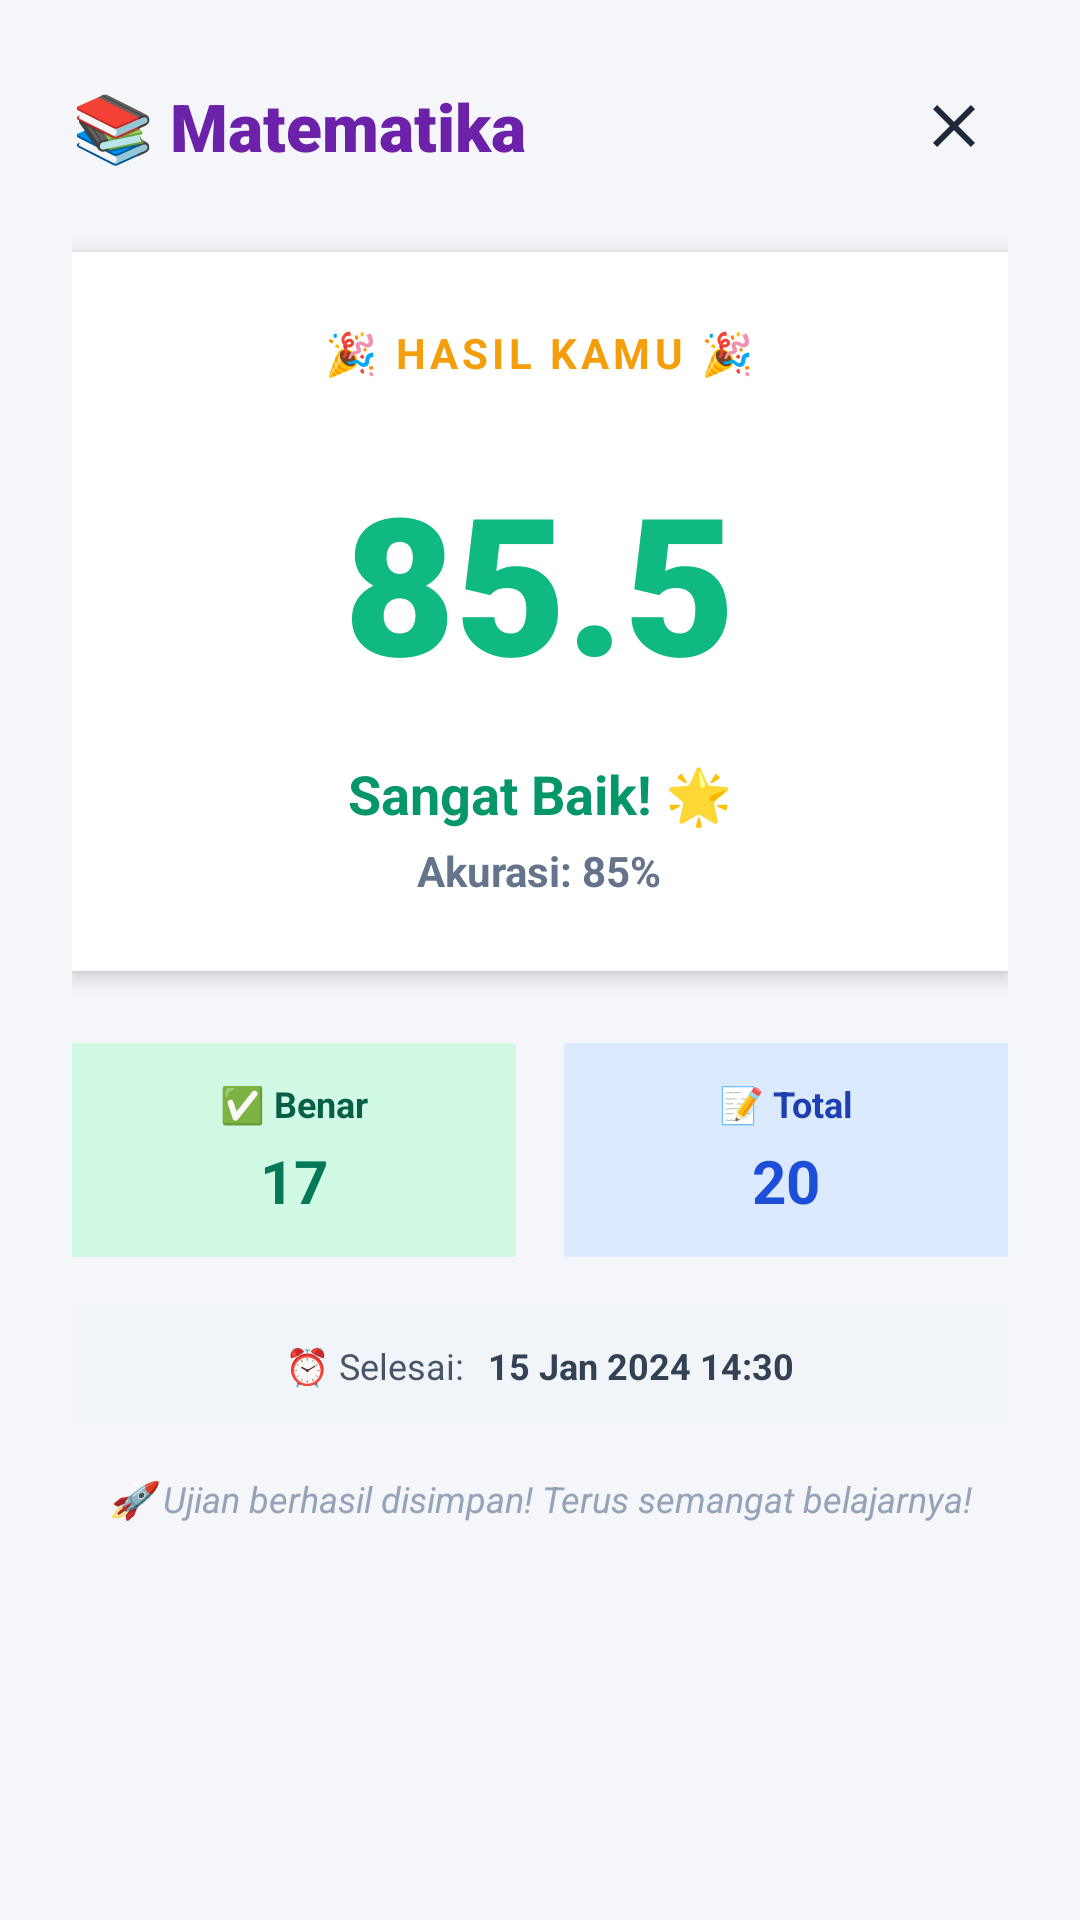

Icon bounding boxes for this 1080x1920 phone screenshot, format {"left": x1, "top": y1, "right": x2, "bottom": y2}:
Close: {"left": 933, "top": 105, "right": 975, "bottom": 147}
